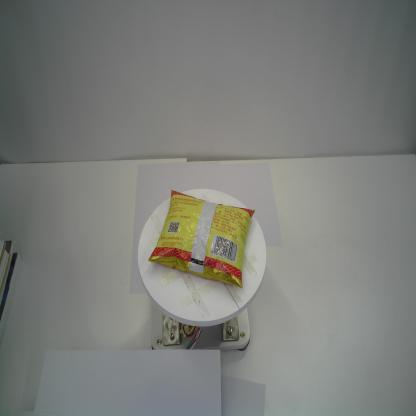Seasoner: (147, 188, 256, 292)
